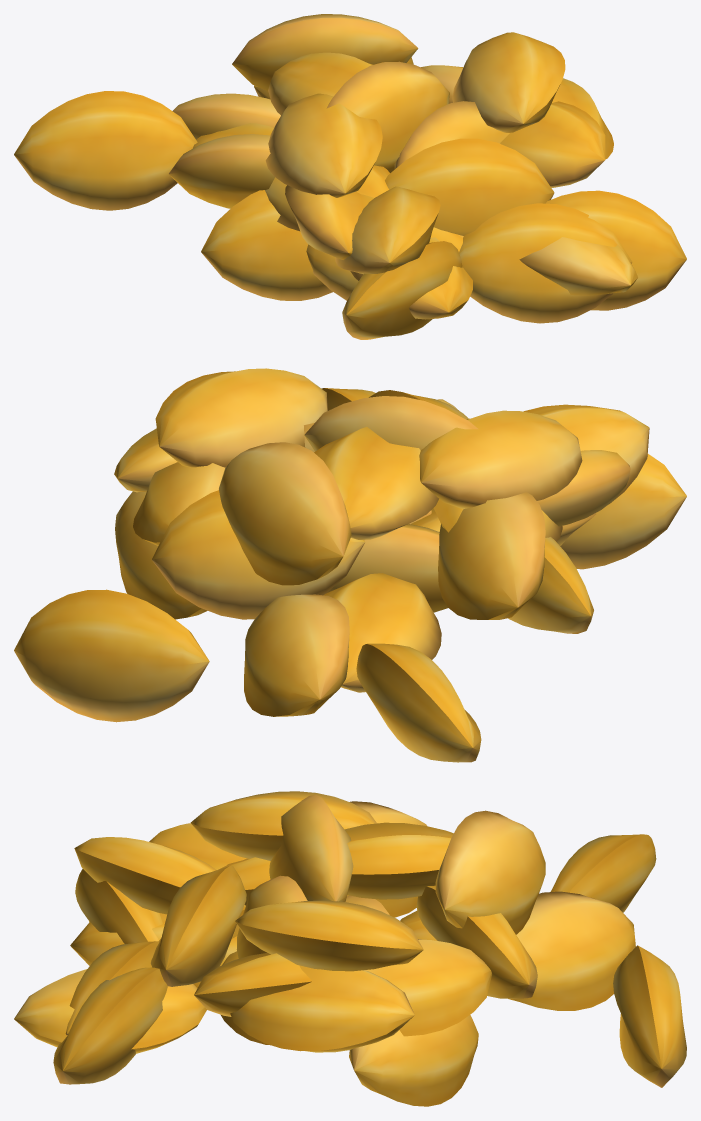
The model's file is NP_Wheat_GrainPile.fbx.
3 views of the same model, one above another, from view 1: azimuth 30°, elevation 25°; view 2: azimuth 150°, elevation 25°; view 3: azimuth 270°, elevation 25° (orthographic). The views are drawn at different scales.
Visible parts, largest first — view 1: NP_Wheat_GrainPile.001; view 2: NP_Wheat_GrainPile.001; view 3: NP_Wheat_GrainPile.001.
Boxes of the visible parts, x1=… form: NP_Wheat_GrainPile.001: x1=14, y1=14, x2=686, y2=339; NP_Wheat_GrainPile.001: x1=14, y1=368, x2=686, y2=762; NP_Wheat_GrainPile.001: x1=14, y1=791, x2=686, y2=1106.
Bounding box in the file's own units: 17.45 × 7.48 × 21.29.
